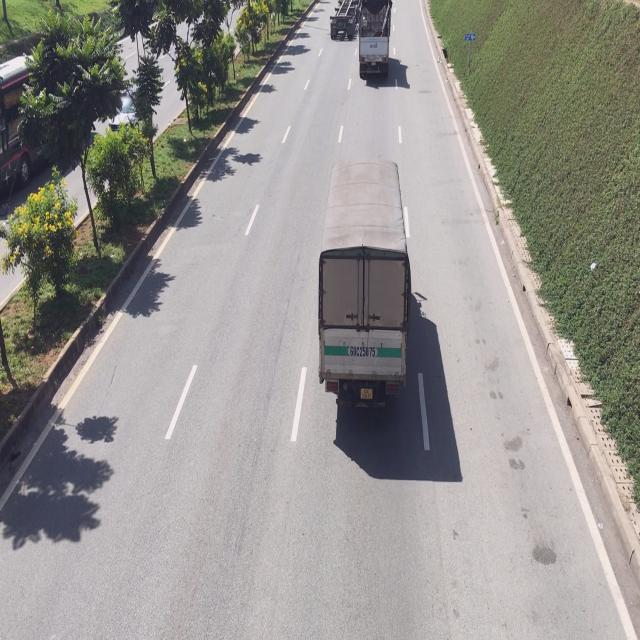truck: (321, 162, 419, 412), (356, 0, 392, 78), (330, 1, 357, 42)
